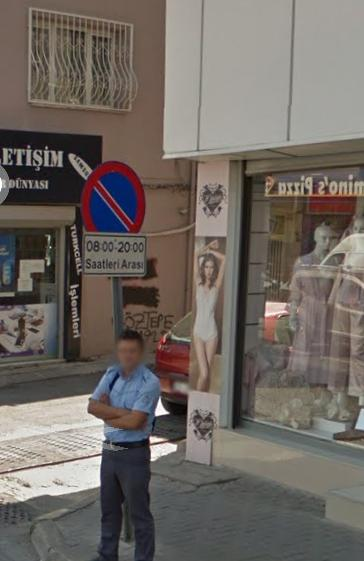nopark: (82, 169, 144, 234)
